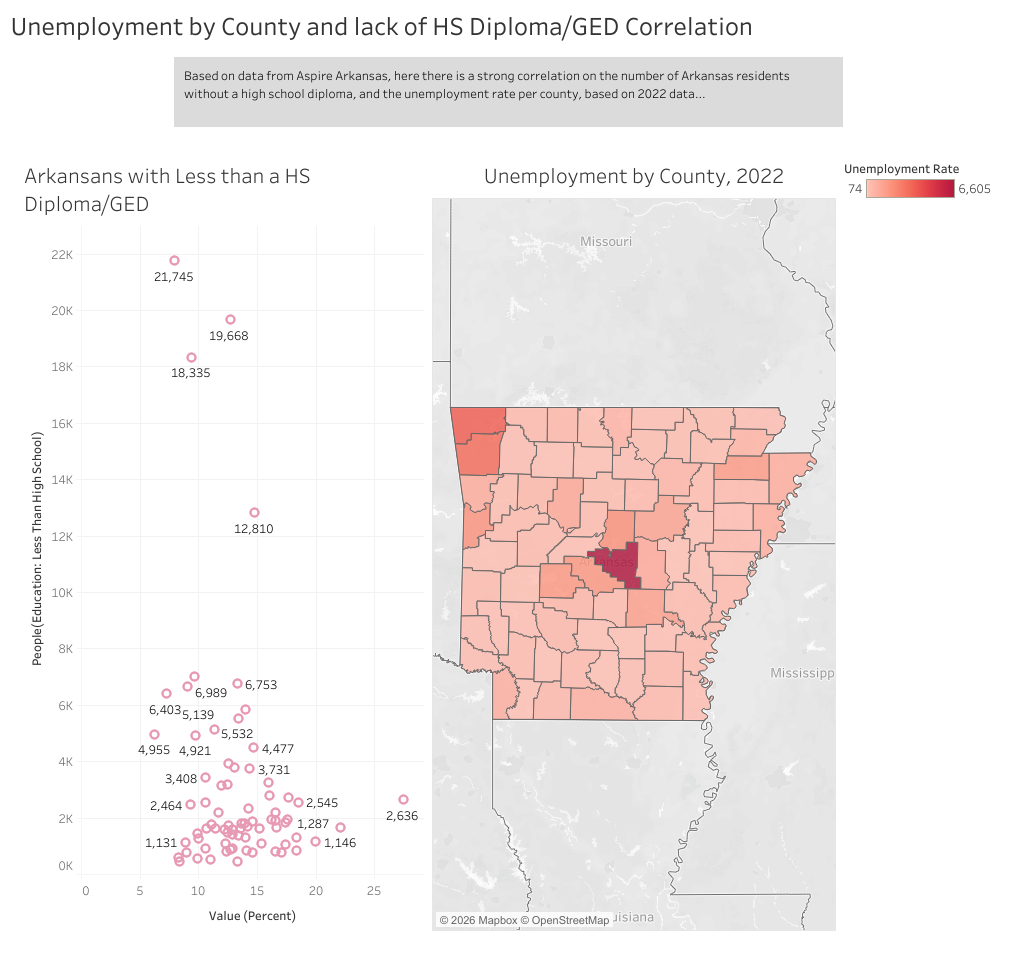

The page's visual inventory and layout, read from the dashboard file:
{"tool":"tableau","page":{"name":"Unemployment and people w/less than a HS Diploma correlation","canvas":[1000,800],"ordinal":3},"visuals":[{"type":"worksheet","title":"Arkansans with Less than a HS Diploma/GED","mark":"Automatic","rows":[" Less Than High School)"],"cols":["Value (Percent)"],"box":[8,8,412,784]},{"type":"worksheet","title":"Unemployment by County","mark":"Automatic","box":[420,8,412,784]},{"type":"legend","title":"Unemployment by County","param":"[federated.0w8xtqx1gmqv311ban3hx0j168dk].[sum:Unemployment Rate:qk]","box":[832,8,160,68]}]}

Visuals, with their boxes on the page's 1000x800 design canvas (x1, y1, x2, y2). These are canvas units, not pixel positions in the 1015x963 screenshot, which may show the page scaled, cropped or inside an application window:
"Arkansans with Less than a HS Diploma/GED" worksheet: 8, 8, 420, 792
"Unemployment by County" worksheet: 420, 8, 832, 792
"Unemployment by County" legend: 832, 8, 992, 76
